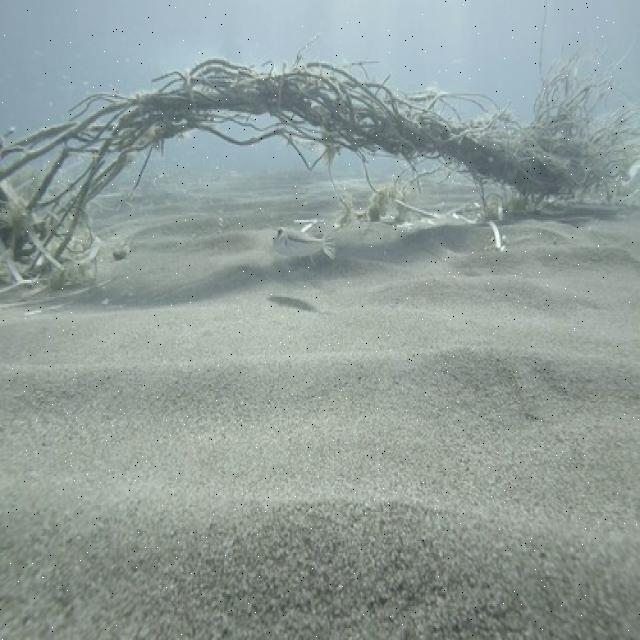Balik: (273, 227, 335, 259)
